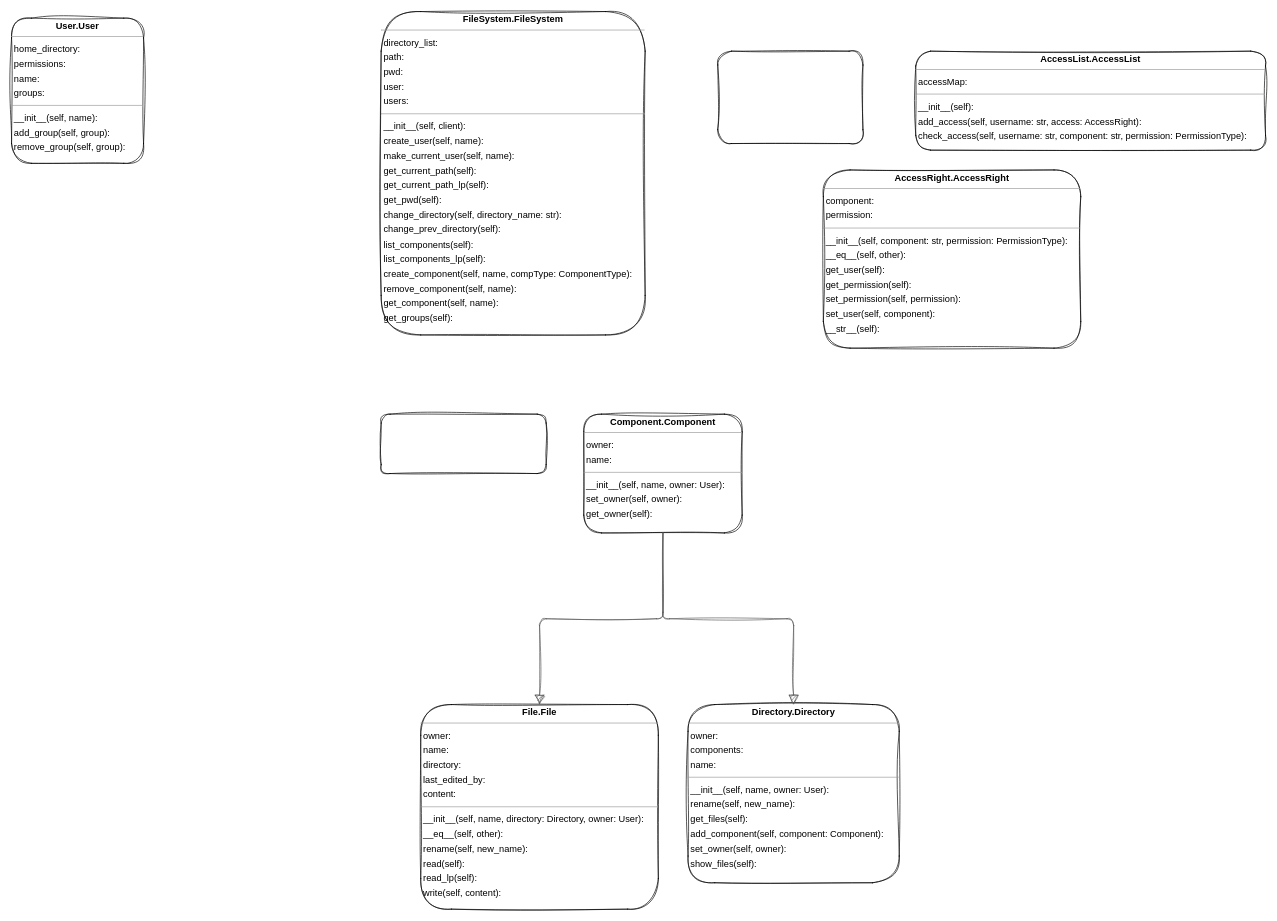
The diagram is 1277 pixels wide and 921 high, and some of its shapes have lost their labels. The centre of each missing label's shape, as x and y in pixels:
AccessRight.PermissionType NONE: READ: WRITE: READWRITE:: the point at 790,97
ComponentType.ComponentType DIR: FILE:: the point at 463,443
